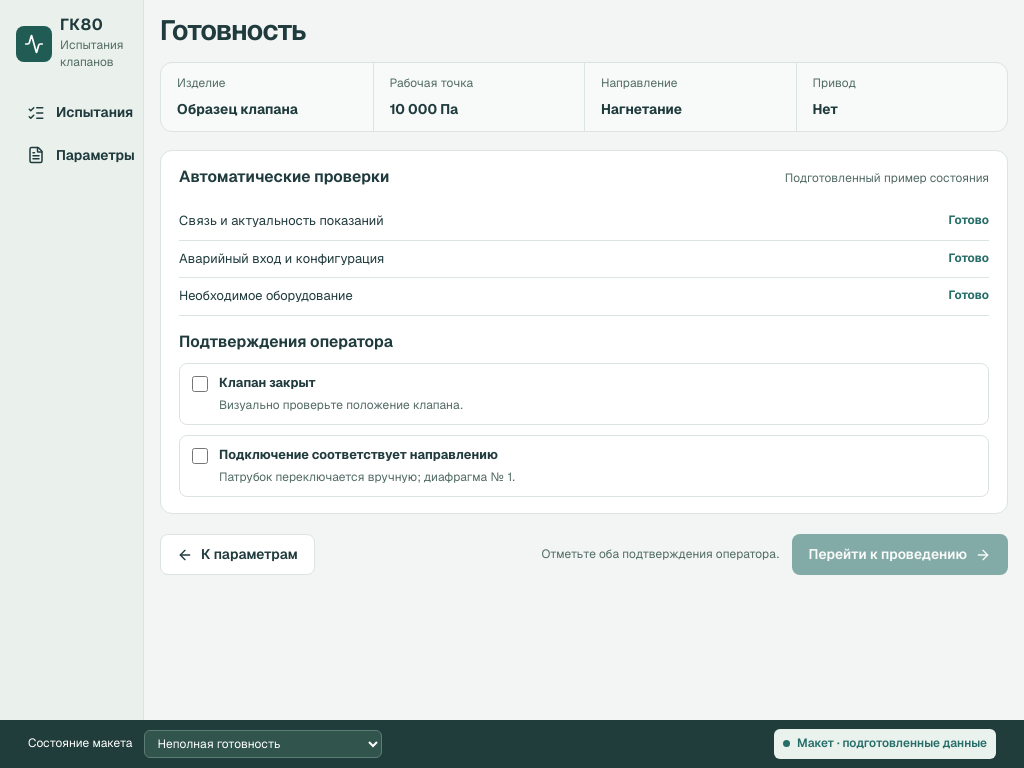
Test: подготовленные состояния оператора › объясняет блокировку и разрешает переход только после двух подтверждений
The width and height of the screenshot is (1024, 768).
Expected: the button "Перейти к проведению" is disabled, [792, 534, 1008, 575]
Expected: the text "Отметьте оба подтверждения оператора." is shown, [542, 546, 780, 563]
Click the checkbox labelled "Клапан закрыт Визуально проверьте положение клапана.": (200, 384) [192, 376, 208, 392]
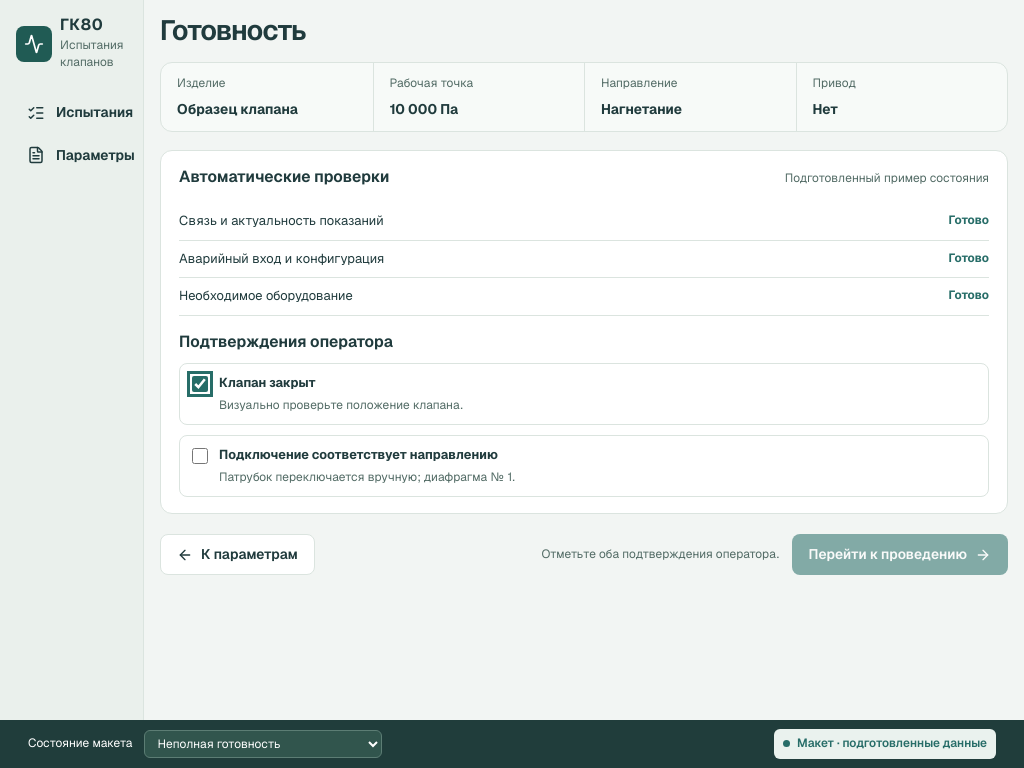
Expected: the button "Перейти к проведению" is disabled, [792, 534, 1008, 575]
Click the checkbox labelled "Подключение соответствует направлению": (200, 456) [192, 448, 208, 464]
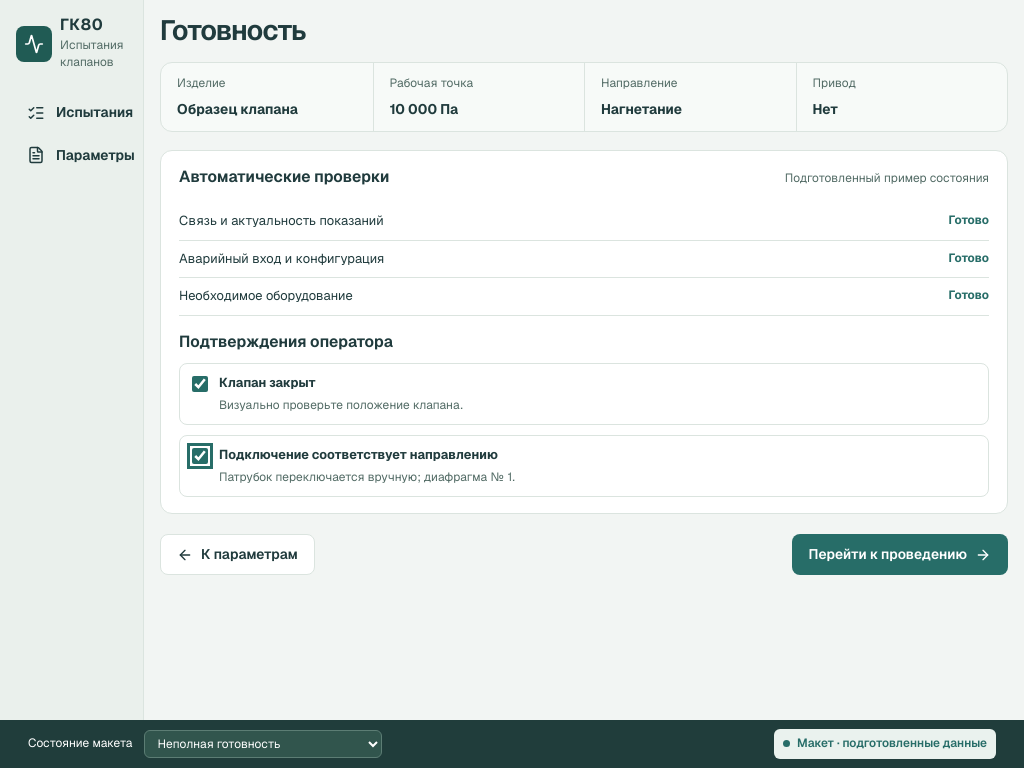
Expected: the button "Перейти к проведению" is enabled
Click the button "Перейти к проведению": (900, 555) [792, 534, 1008, 575]
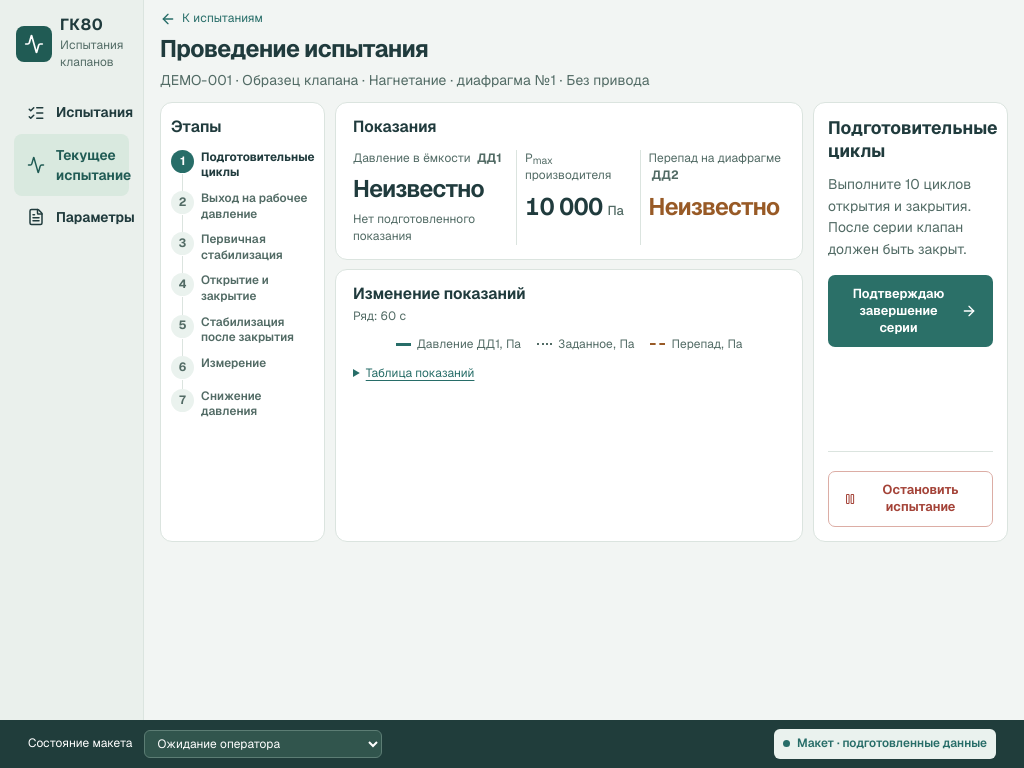
Expected: the heading "Проведение испытания" is shown, [160, 33, 428, 64]
